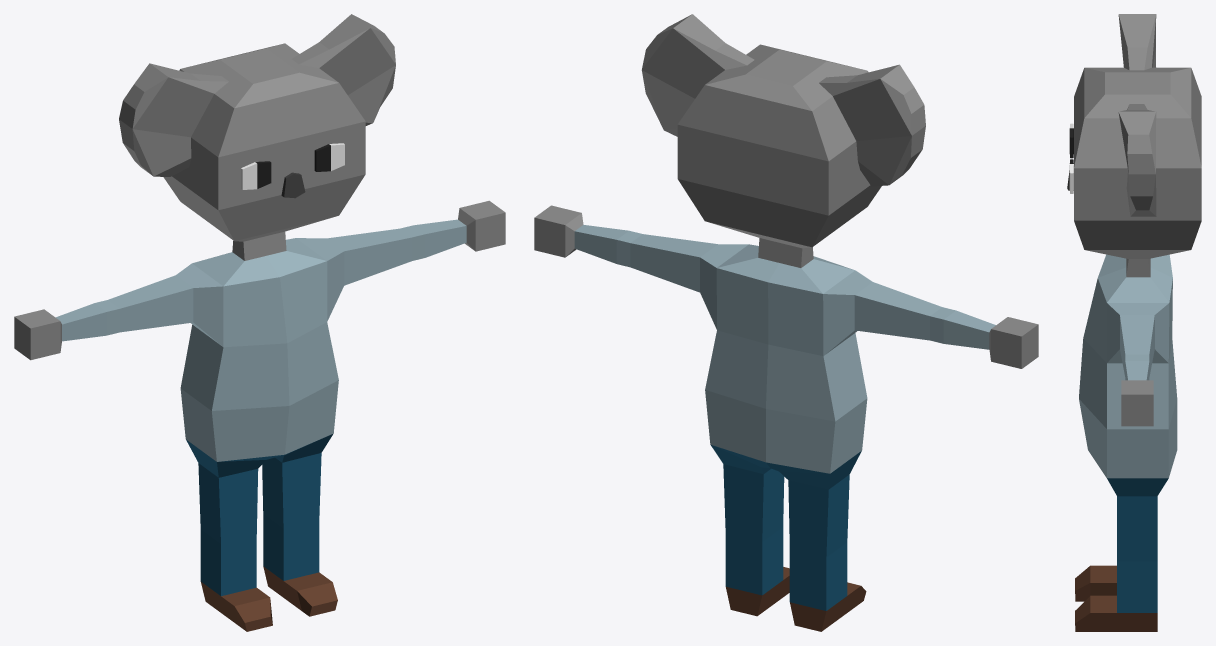
The model's file is vilperi.glb.
3 renders of one model, left to right at view 1: azimuth 30°, elevation 25°; view 2: azimuth 150°, elevation 25°; view 3: azimuth 270°, elevation 25°, orthographic. The views are drawn at different scales.
Visible parts, largest first — view 1: Cube; view 2: Cube; view 3: Cube.
Part boxes in pixels (left/top/right/bottom): Cube: left=14, top=14, right=505, bottom=631; Cube: left=534, top=14, right=1038, bottom=631; Cube: left=1067, top=14, right=1201, bottom=631.
Bounding box in the file's own units: 1.36 × 1.51 × 0.3356.
1 material, 1 textured.
